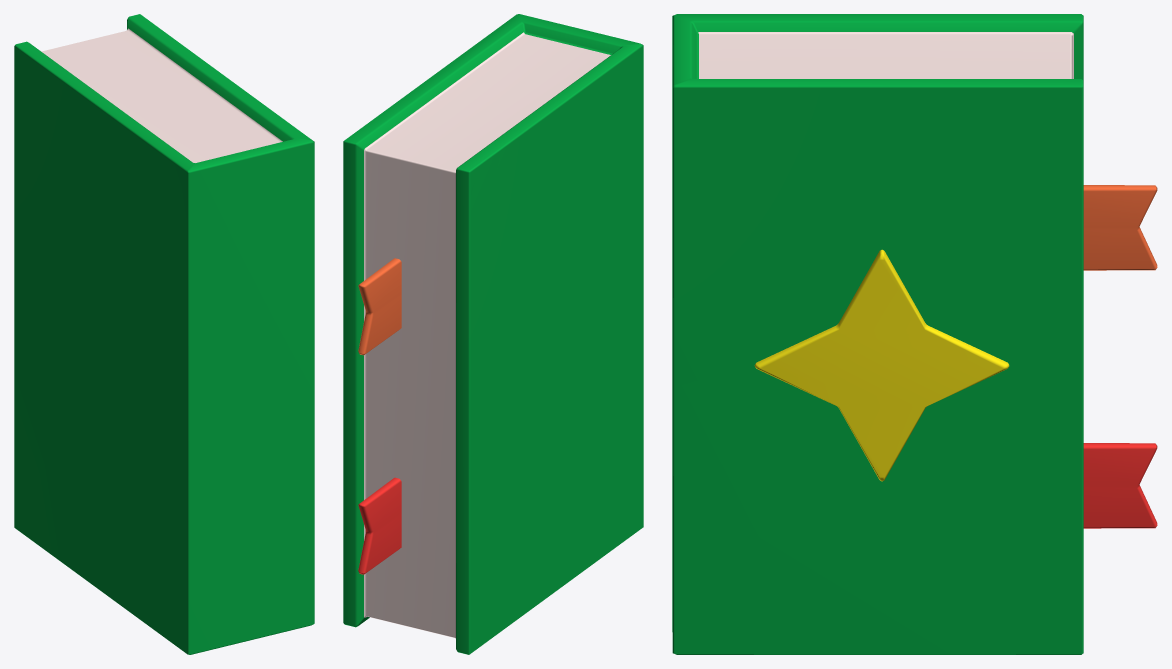
File: Public_2_Book_8.glb
3 views of the same model, side by side, from view 1: azimuth 30°, elevation 25°; view 2: azimuth 150°, elevation 25°; view 3: azimuth 270°, elevation 25° (orthographic). The views are drawn at different scales.
Parts seen in each view (by area): view 1: Public_2_Book_8; view 2: Public_2_Book_8; view 3: Public_2_Book_8.
Part boxes in pixels (x1=…): Public_2_Book_8: x1=14, y1=14, x2=314, y2=654; Public_2_Book_8: x1=343, y1=14, x2=643, y2=654; Public_2_Book_8: x1=672, y1=14, x2=1157, y2=654.
Size of the model in its own units: 0.6355 by 2.2 by 1.69.
1 material, 1 textured.
